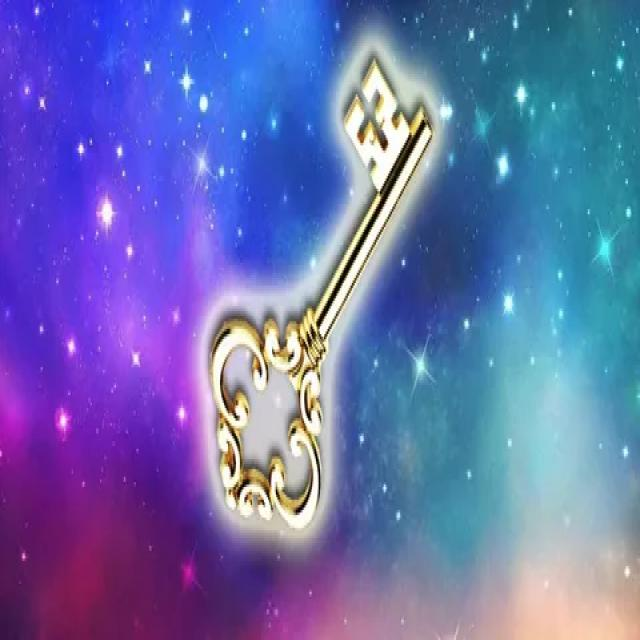key: (199, 40, 449, 549)
